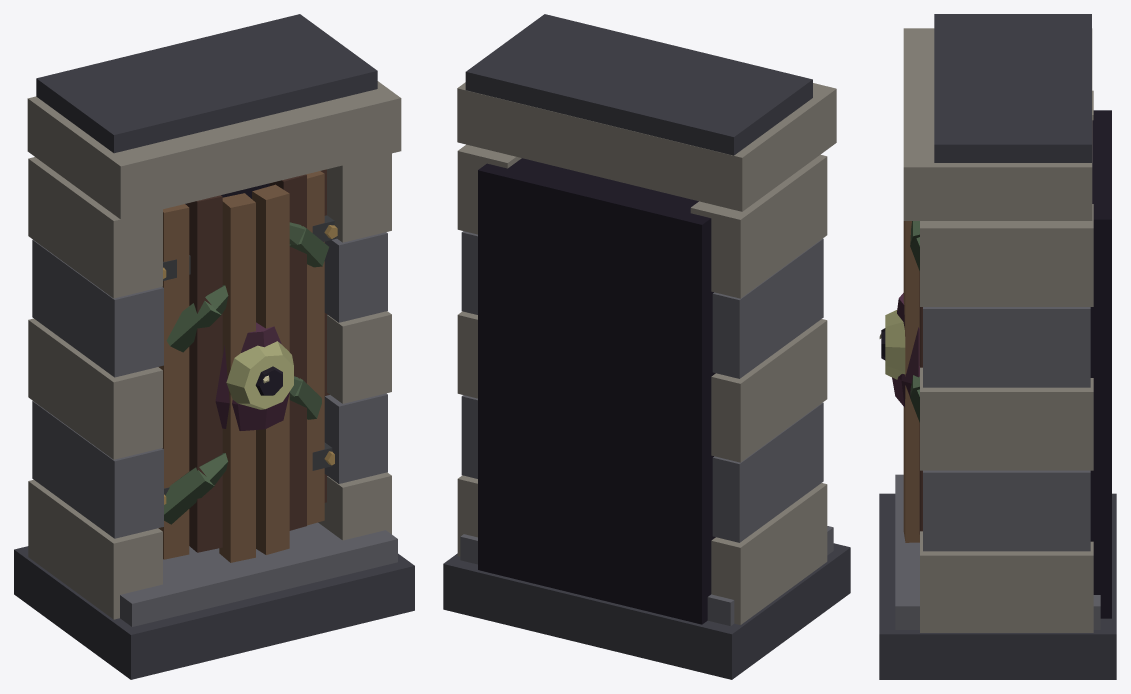
Rendered from cellar-shutters-watching.glb.
3 views of the same model, side by side, from view 1: azimuth 30°, elevation 25°; view 2: azimuth 150°, elevation 25°; view 3: azimuth 270°, elevation 25° (orthographic).
Parts seen in each view (by area): view 1: Cellar shutters · watching; view 2: Cellar shutters · watching; view 3: Cellar shutters · watching.
Boxes of the visible parts, x1,y1,x2,y2 form: Cellar shutters · watching: (14, 14, 414, 679); Cellar shutters · watching: (443, 14, 850, 679); Cellar shutters · watching: (879, 14, 1116, 679).
Bounding box in the file's own units: 0.94 × 1.65 × 0.67.
